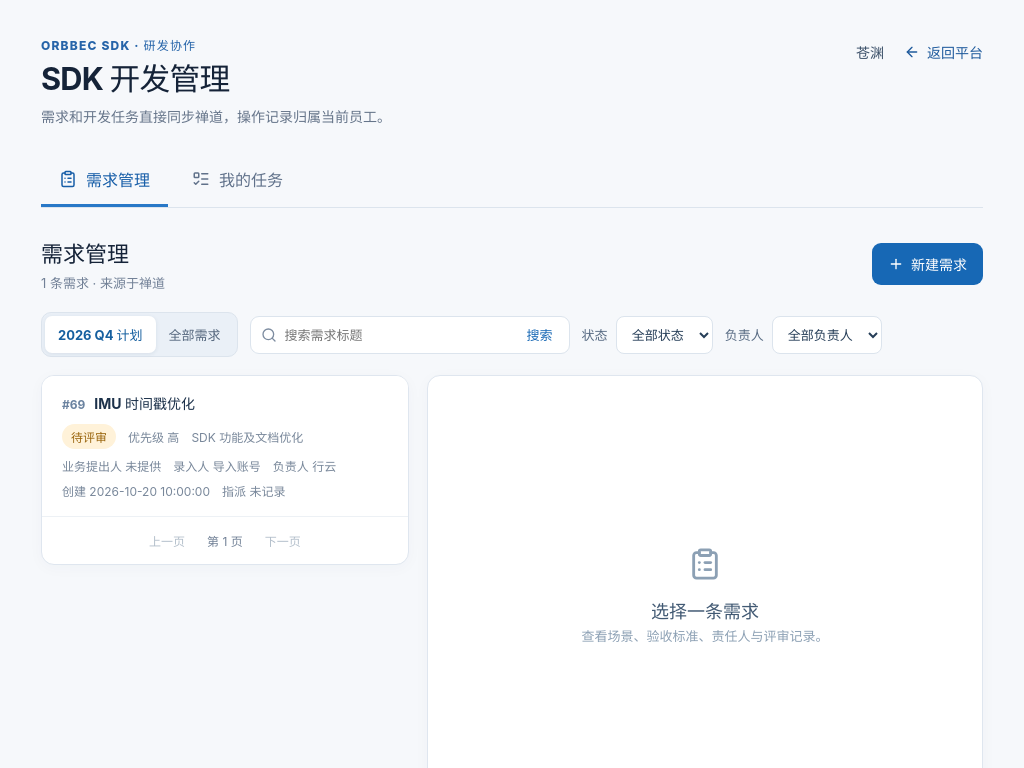
Scenario: opens Q4 ZenTao requirements and distinguishes business proposer, importer and owner
Click the button that starts with "IMU 时间戳优化" at (225, 447), box [42,376,408,517]
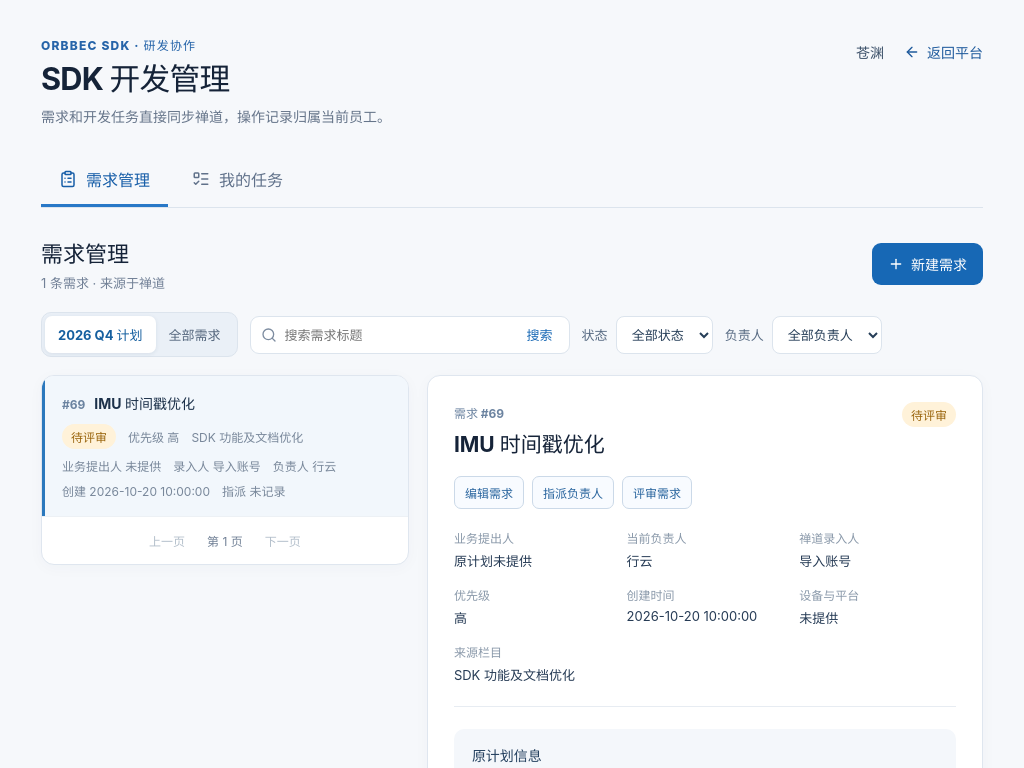
Check: the text "导入账号" is shown, box [213,459,261,474]
Check: the text "原计划未提供" is shown, box [454,553,532,569]
Check: the text "禅道录入人" is shown, box [799,531,859,546]
